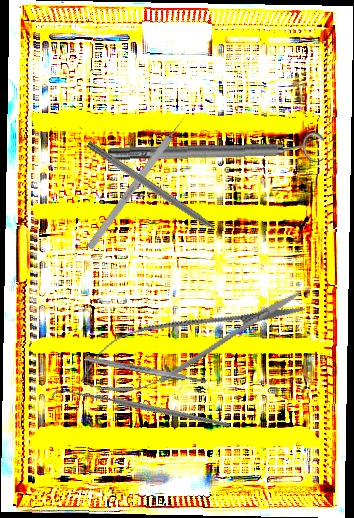Fixation Ring: (107, 132, 325, 169)
Hook Surgical: (50, 321, 232, 500), (85, 140, 235, 246), (86, 109, 192, 251)
Micro Scissor: (70, 271, 313, 411)
Scalpel Handle: (83, 354, 208, 386)
